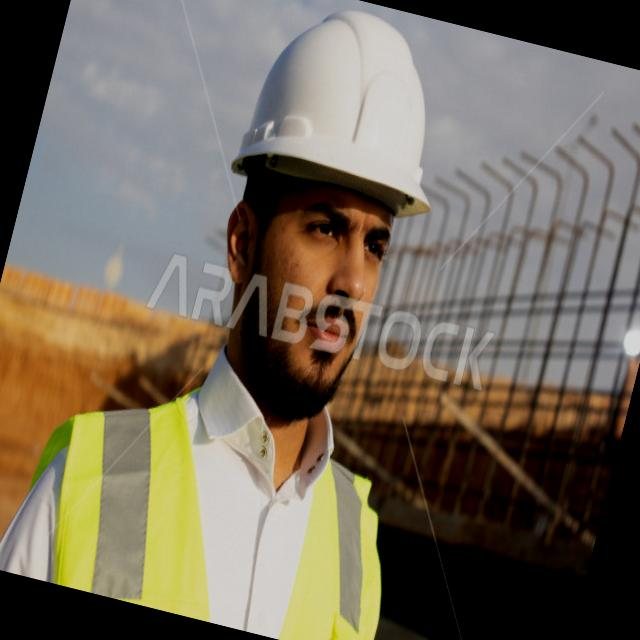helmet: (207, 0, 483, 244)
no-goggles: (223, 152, 434, 296)
vest: (13, 357, 426, 640)
